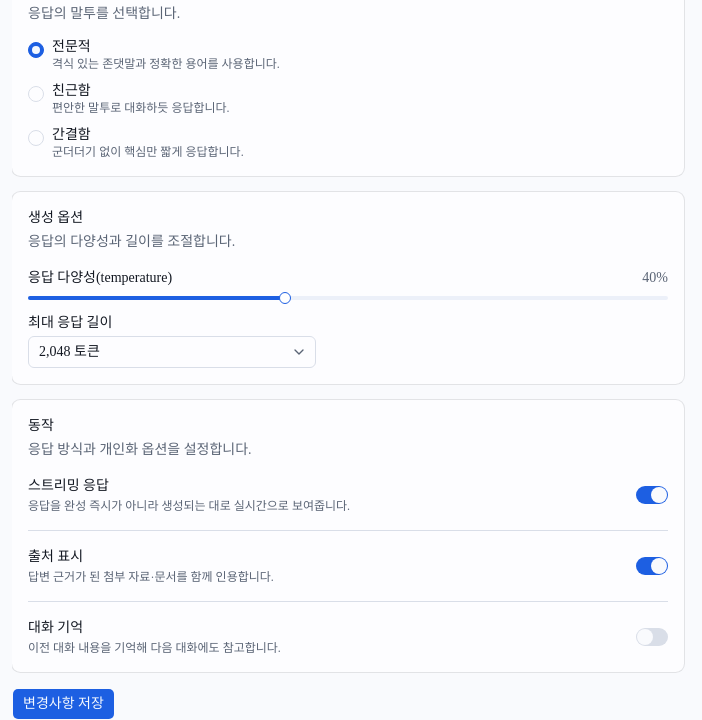
Test: ChatSettingsPage › saves and shows a confirmation timestamp
This screenshot has width=702, height=720.
(page scrolled)
Click the button "변경사항 저장".
click(63, 704)  # box left=12, top=688, right=115, bottom=719
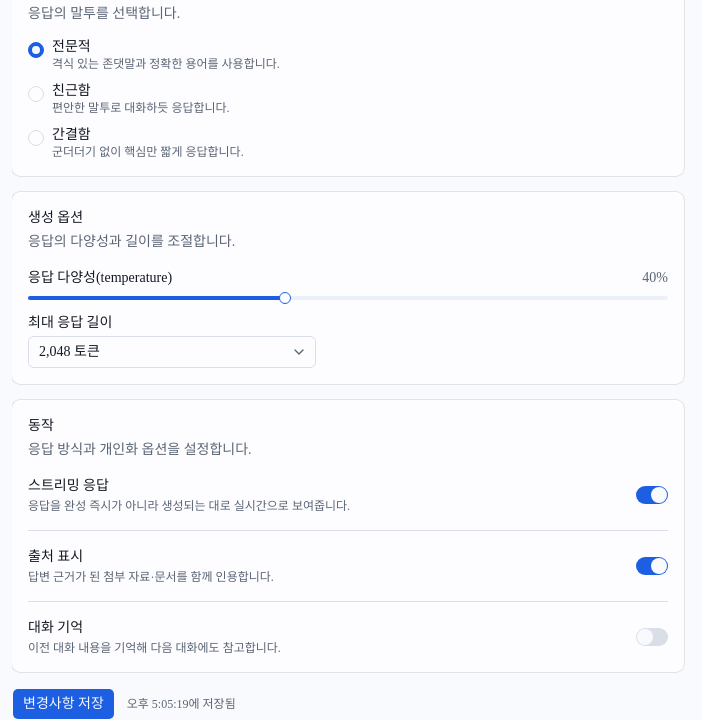
Result: the text "오후 5:05:19에 저장됨" is shown at left=127, top=696, right=236, bottom=712
